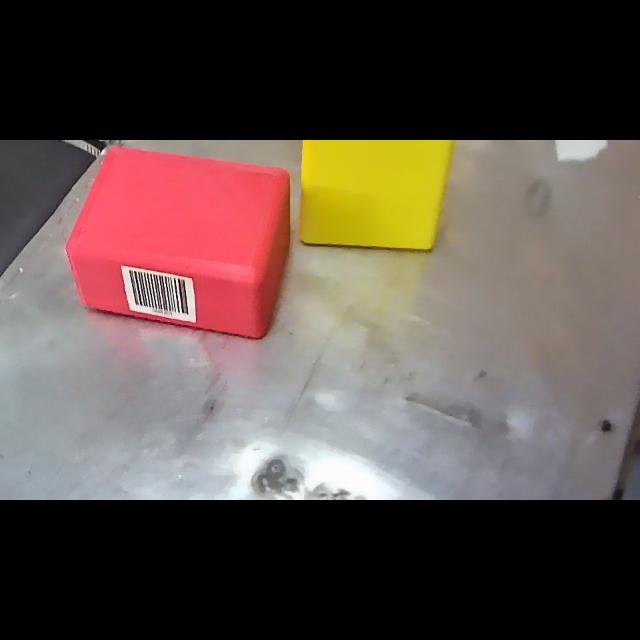redBox: (61, 140, 295, 350)
yellowBox: (294, 140, 468, 262)
